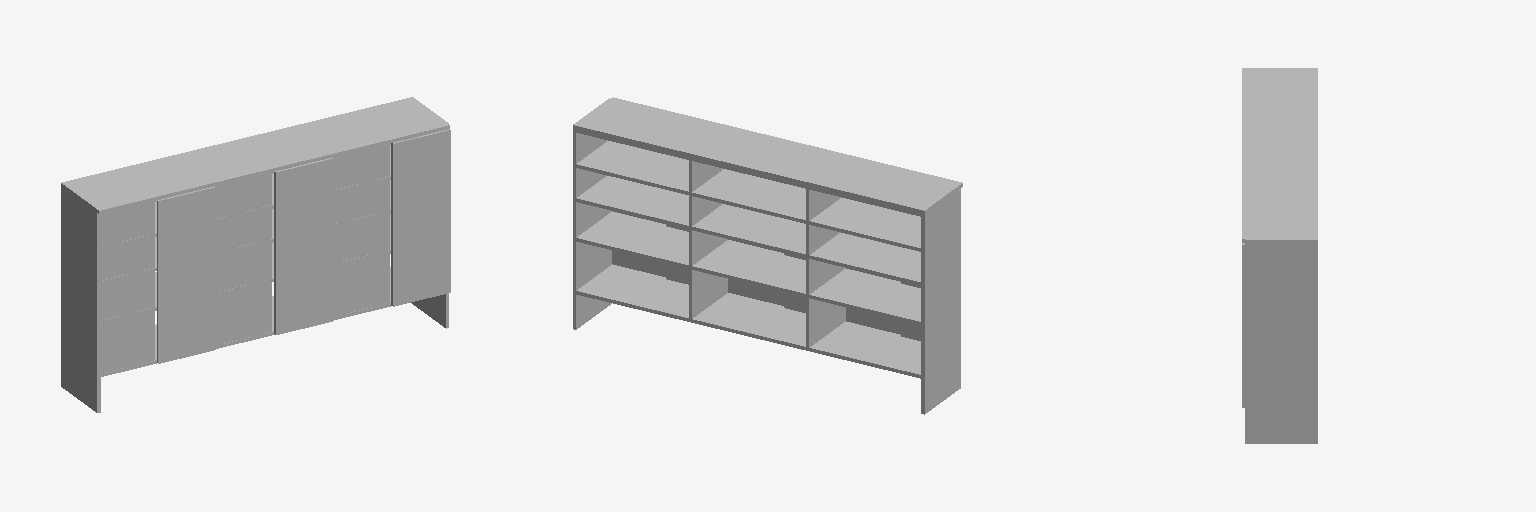
File: housesp_116.obj
3 views of the same model, side by side, from view 1: azimuth 30°, elevation 25°; view 2: azimuth 150°, elevation 25°; view 3: azimuth 270°, elevation 25° (orthographic).
Bounding box in the file's own units: 216 × 120 × 40.9.